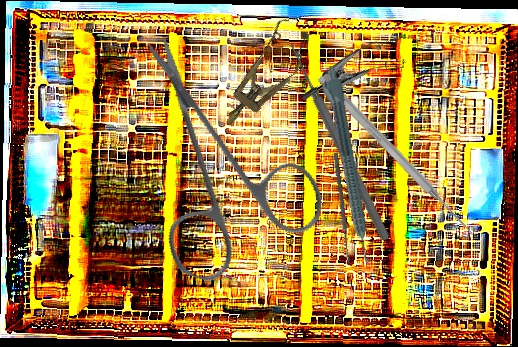Handpiece: (316, 64, 374, 266)
Iris Scissors: (80, 33, 359, 310)
Pusher: (315, 72, 479, 240), (284, 39, 393, 243)
Speculum: (209, 13, 320, 139), (299, 17, 416, 135)
Surgical Spoon: (332, 152, 352, 265)
